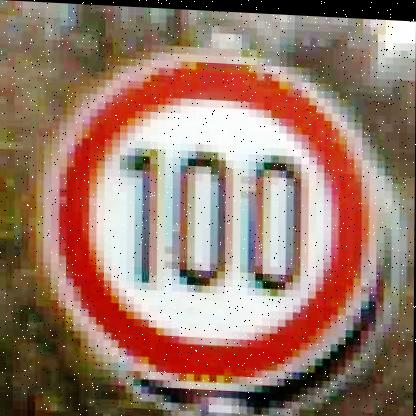Speed Limit -100-: (34, 45, 400, 406)
